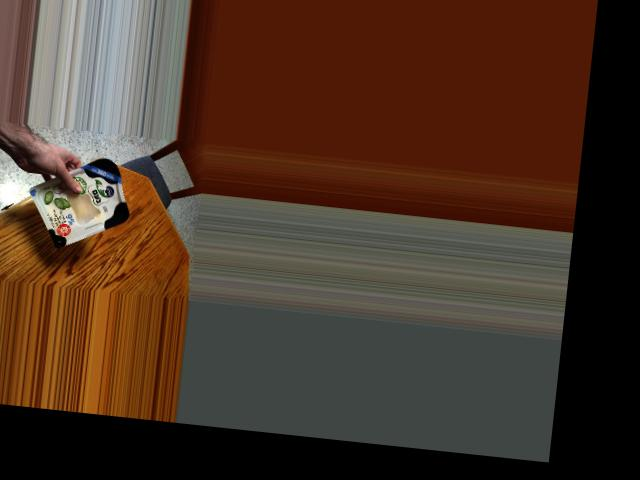cheese: (36, 153, 132, 249)
